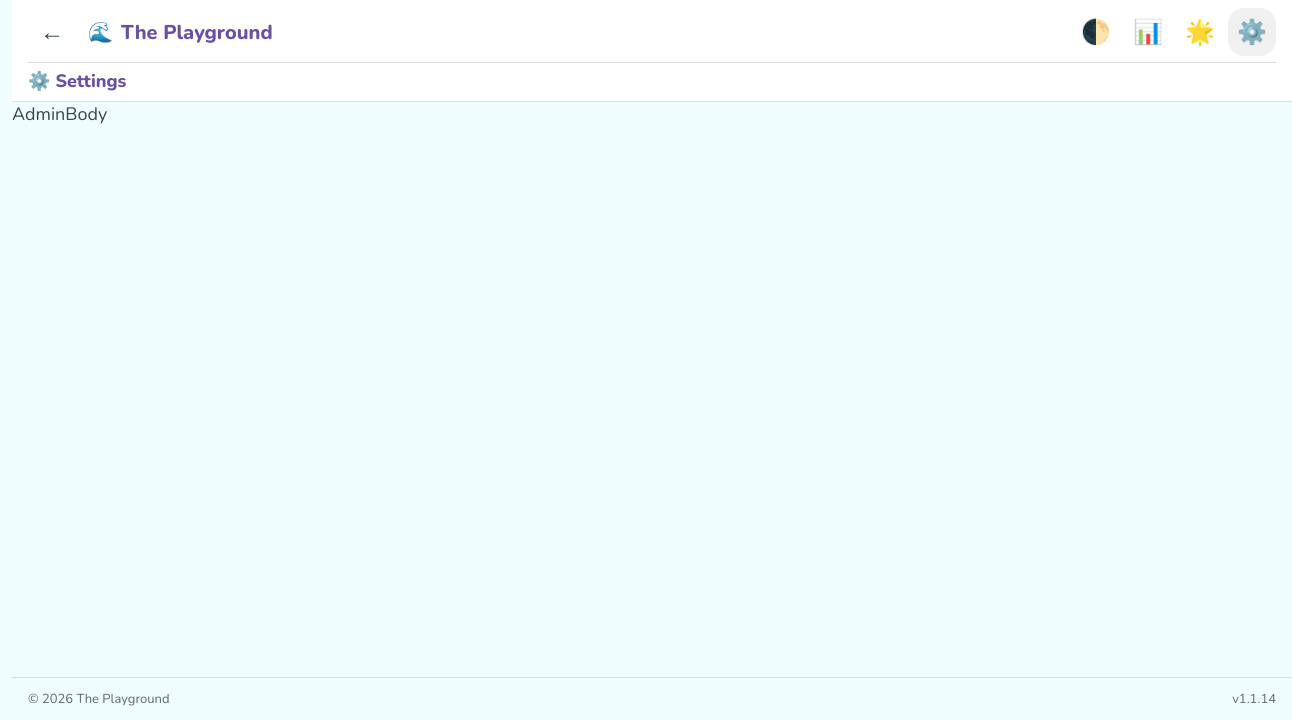
Test case: AppShell — exit guard › does not guard the brand link on non-game pages
This screenshot has width=1292, height=720.
What coordinates should you click on to do the following:
click the link "🌊 The Playground"
I would click on:
 (180, 32)
Its box is [88,18,273,46].
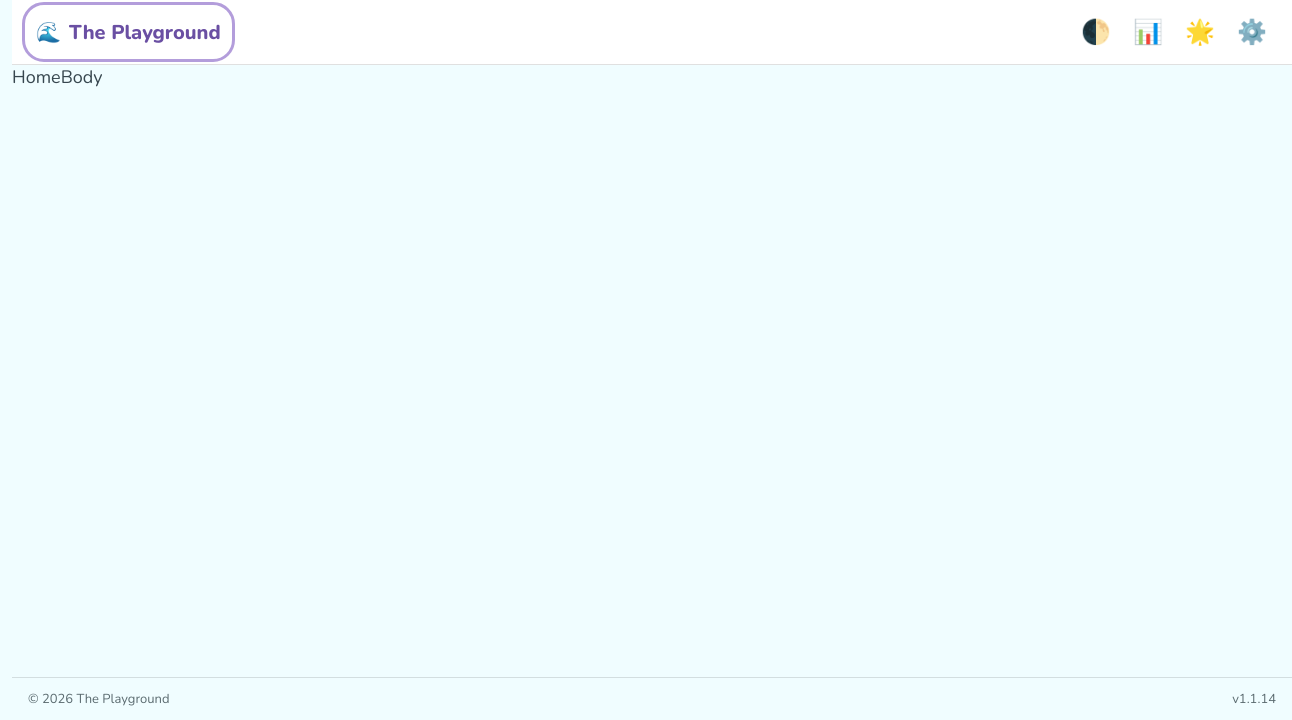
Now the text "HomeBody" is shown, box [12,65,103,89]
